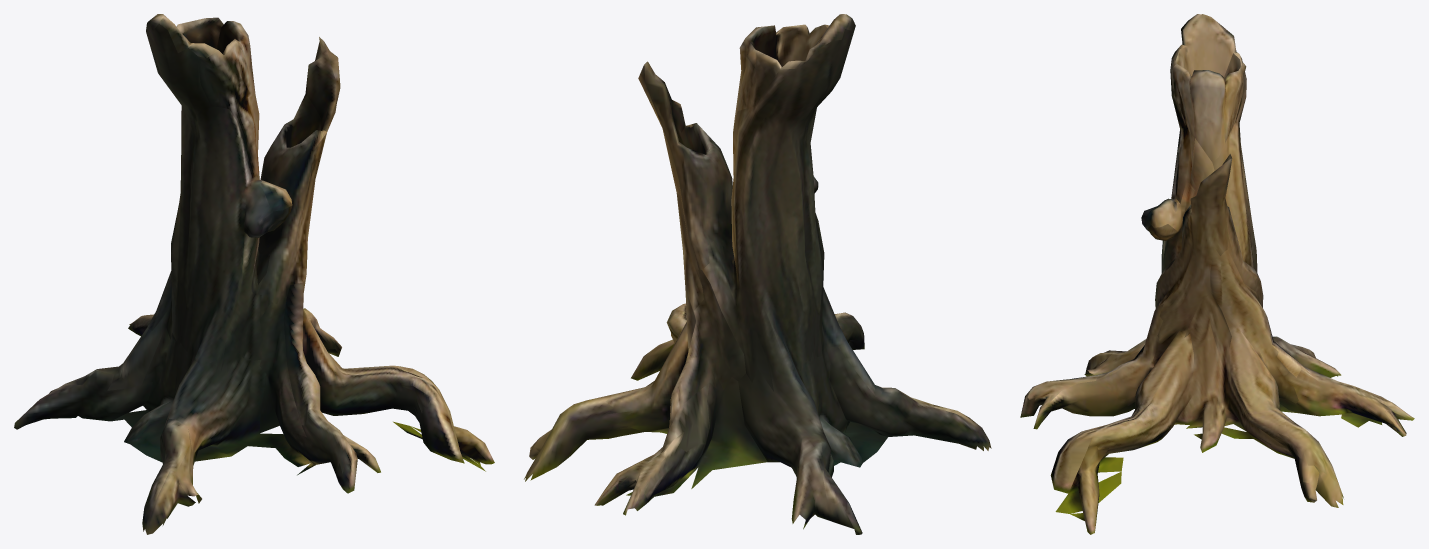
The model's file is terrain3_oak_0.glb.
3 views of the same model, side by side, from view 1: azimuth 30°, elevation 25°; view 2: azimuth 150°, elevation 25°; view 3: azimuth 270°, elevation 25° (orthographic). The views are drawn at different scales.
Visible parts, largest first — view 1: oak_0; view 2: oak_0; view 3: oak_0.
Boxes of the visible parts, left/top/right/bottom form: oak_0: left=14, top=14, right=494, bottom=534; oak_0: left=524, top=14, right=991, bottom=534; oak_0: left=1020, top=14, right=1414, bottom=534.
Bounding box in the file's own units: 26.03 × 33 × 28.98.
Materials: 1 (1 with a texture image).
